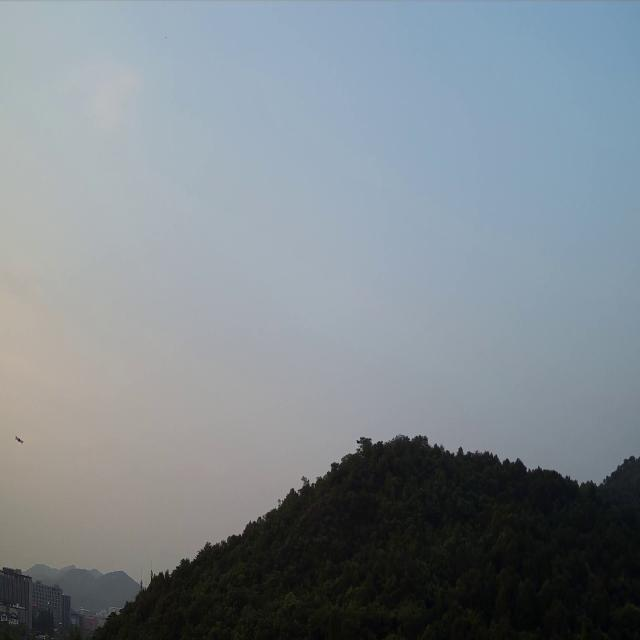UAV: (14, 434, 24, 445)
